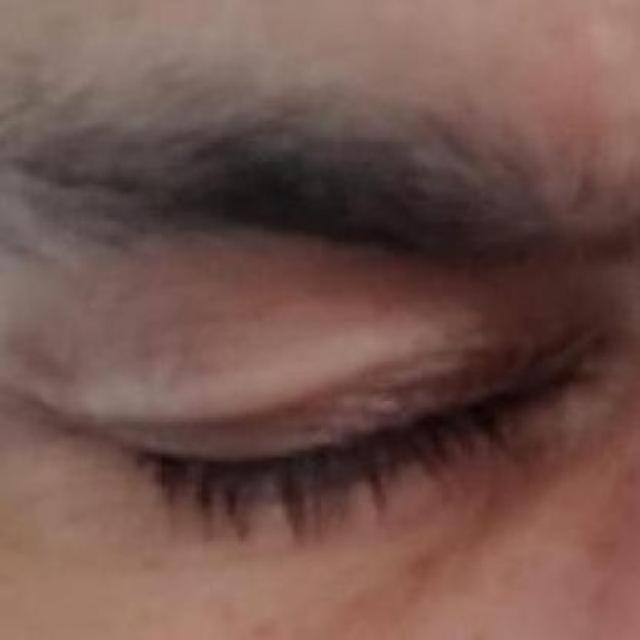drowsy: (110, 319, 581, 583)
